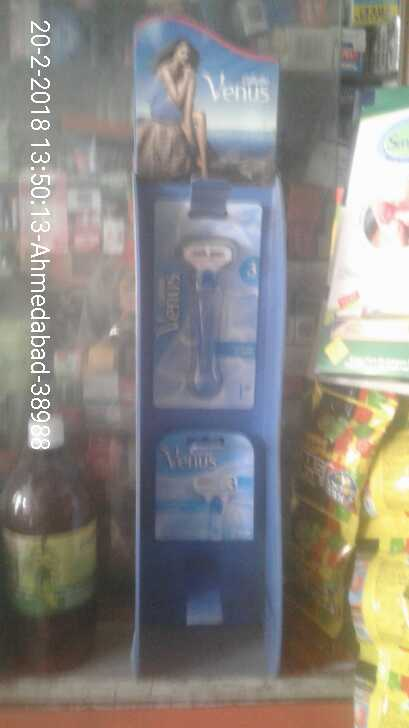venus: (151, 198, 258, 413), (150, 432, 262, 543)
